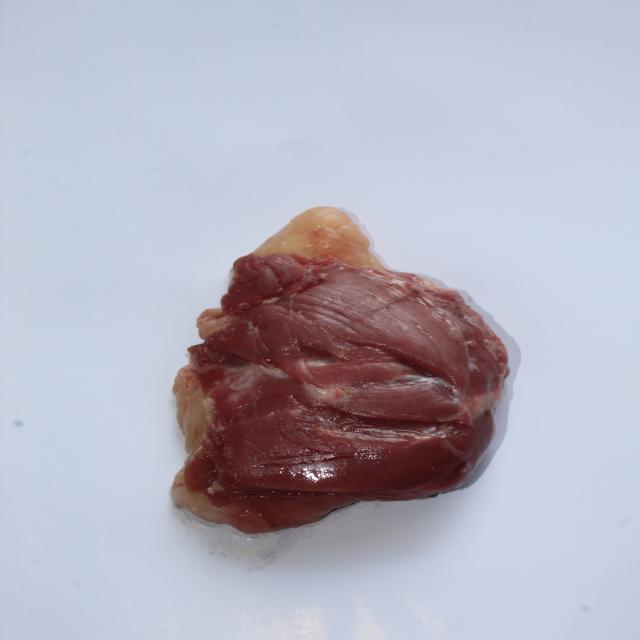beef: (156, 190, 585, 585)
